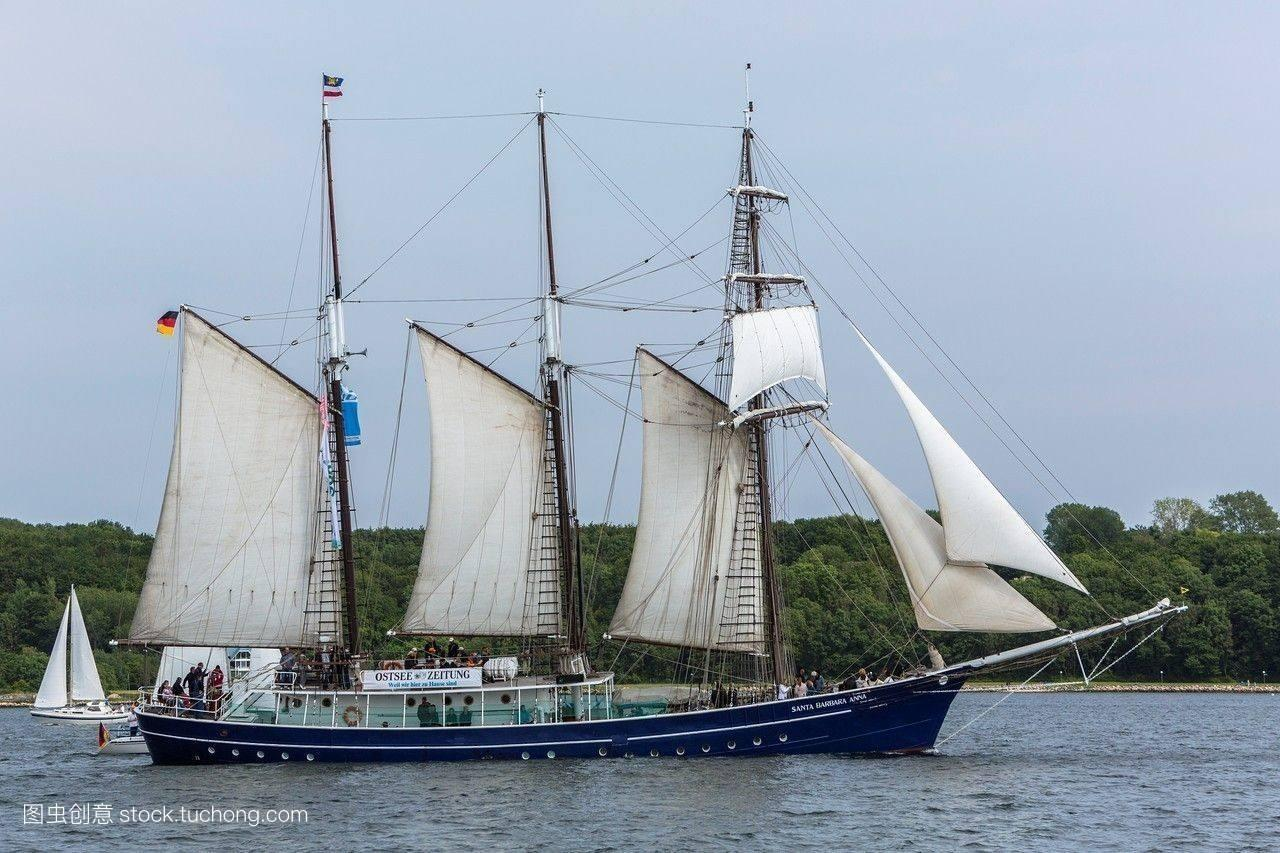fanchuan: (134, 37, 1192, 769), (14, 581, 131, 739)
